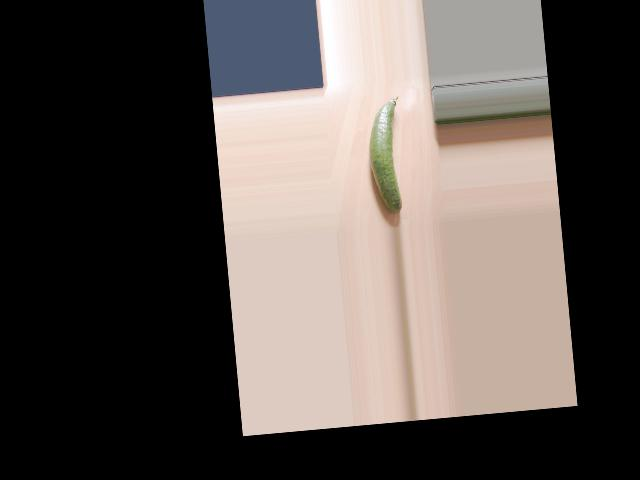cucumber: (363, 95, 408, 216)
